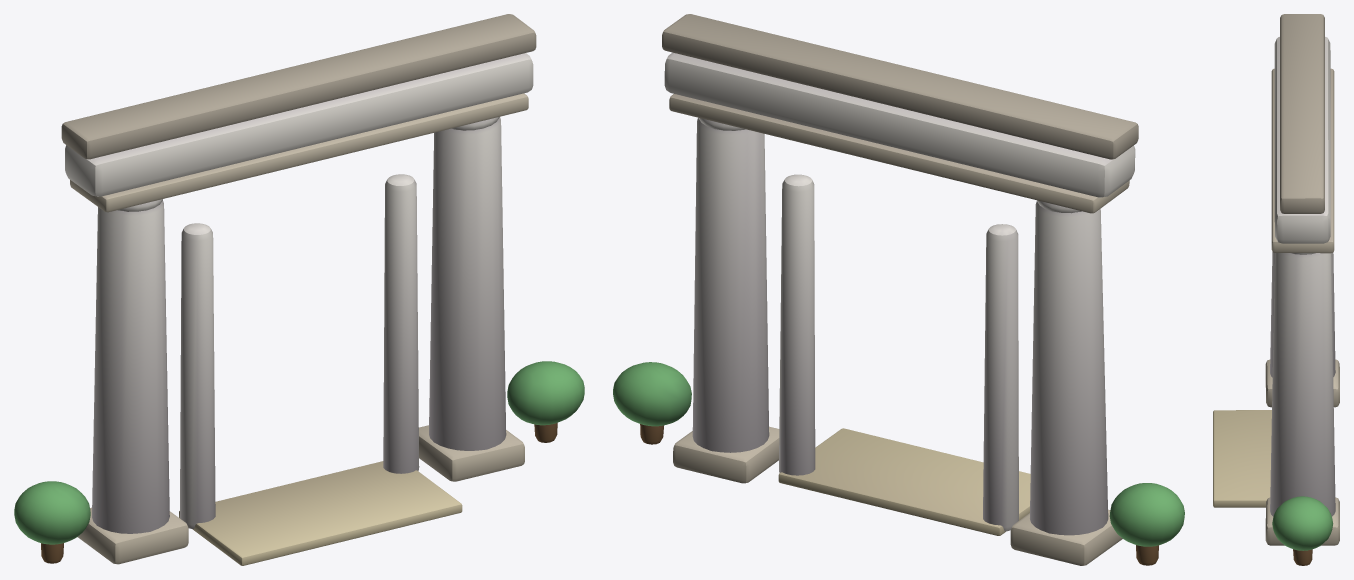
3 views of the same model, side by side, from view 1: azimuth 30°, elevation 25°; view 2: azimuth 150°, elevation 25°; view 3: azimuth 270°, elevation 25° (orthographic). The views are drawn at different scales.
Visible parts, largest first — view 1: gate_a3d7fcce; view 2: gate_a3d7fcce; view 3: gate_a3d7fcce.
Part boxes in pixels (left/top/right/bottom): gate_a3d7fcce: left=14, top=14, right=584, bottom=565; gate_a3d7fcce: left=613, top=14, right=1184, bottom=565; gate_a3d7fcce: left=1213, top=14, right=1339, bottom=565.
Bounding box in the file's own units: 6.09 × 4.41 × 1.42.
